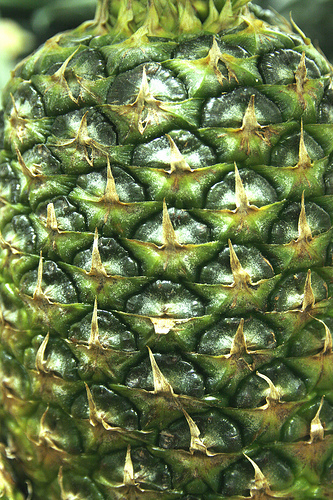pineapple: (0, 2, 331, 498)
